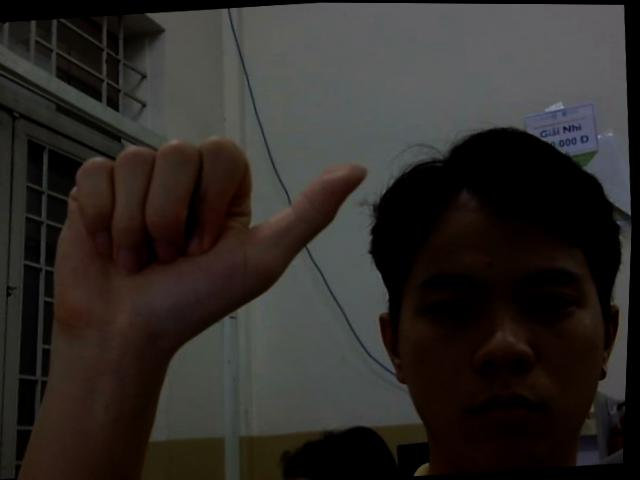A: (31, 128, 381, 354)
